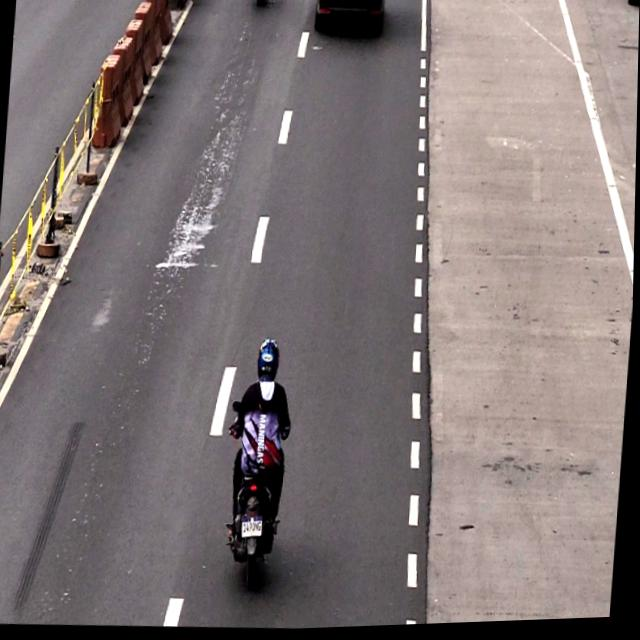License-Plate: (240, 517, 266, 540)
Motorcycle: (222, 336, 302, 596)
